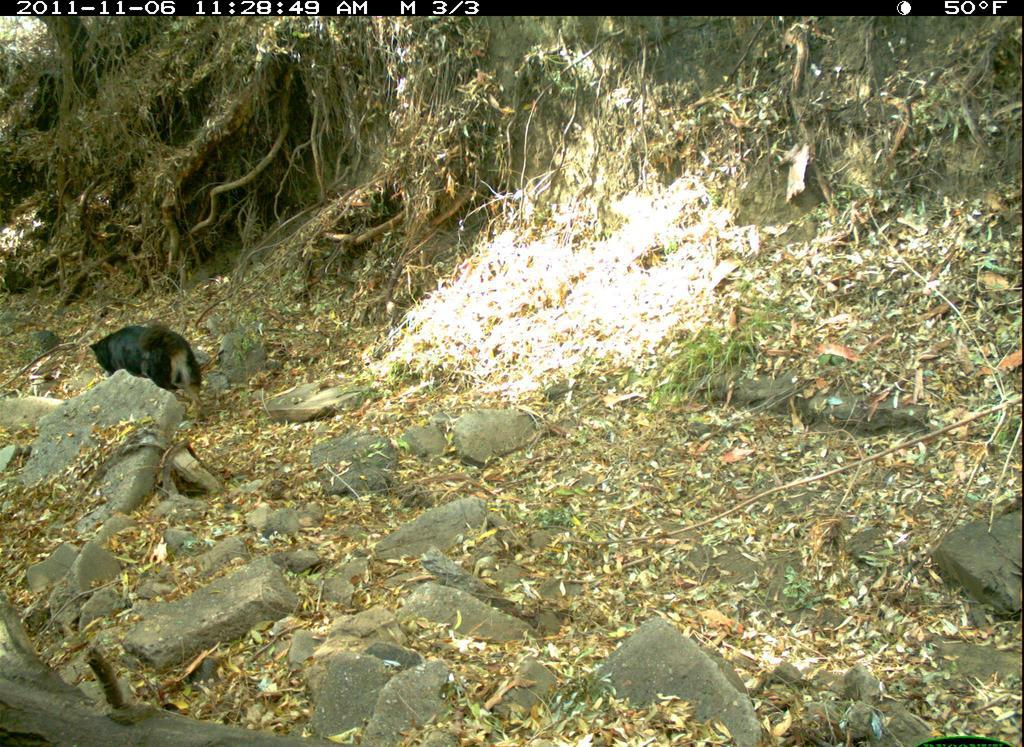dog: (81, 318, 245, 427)
